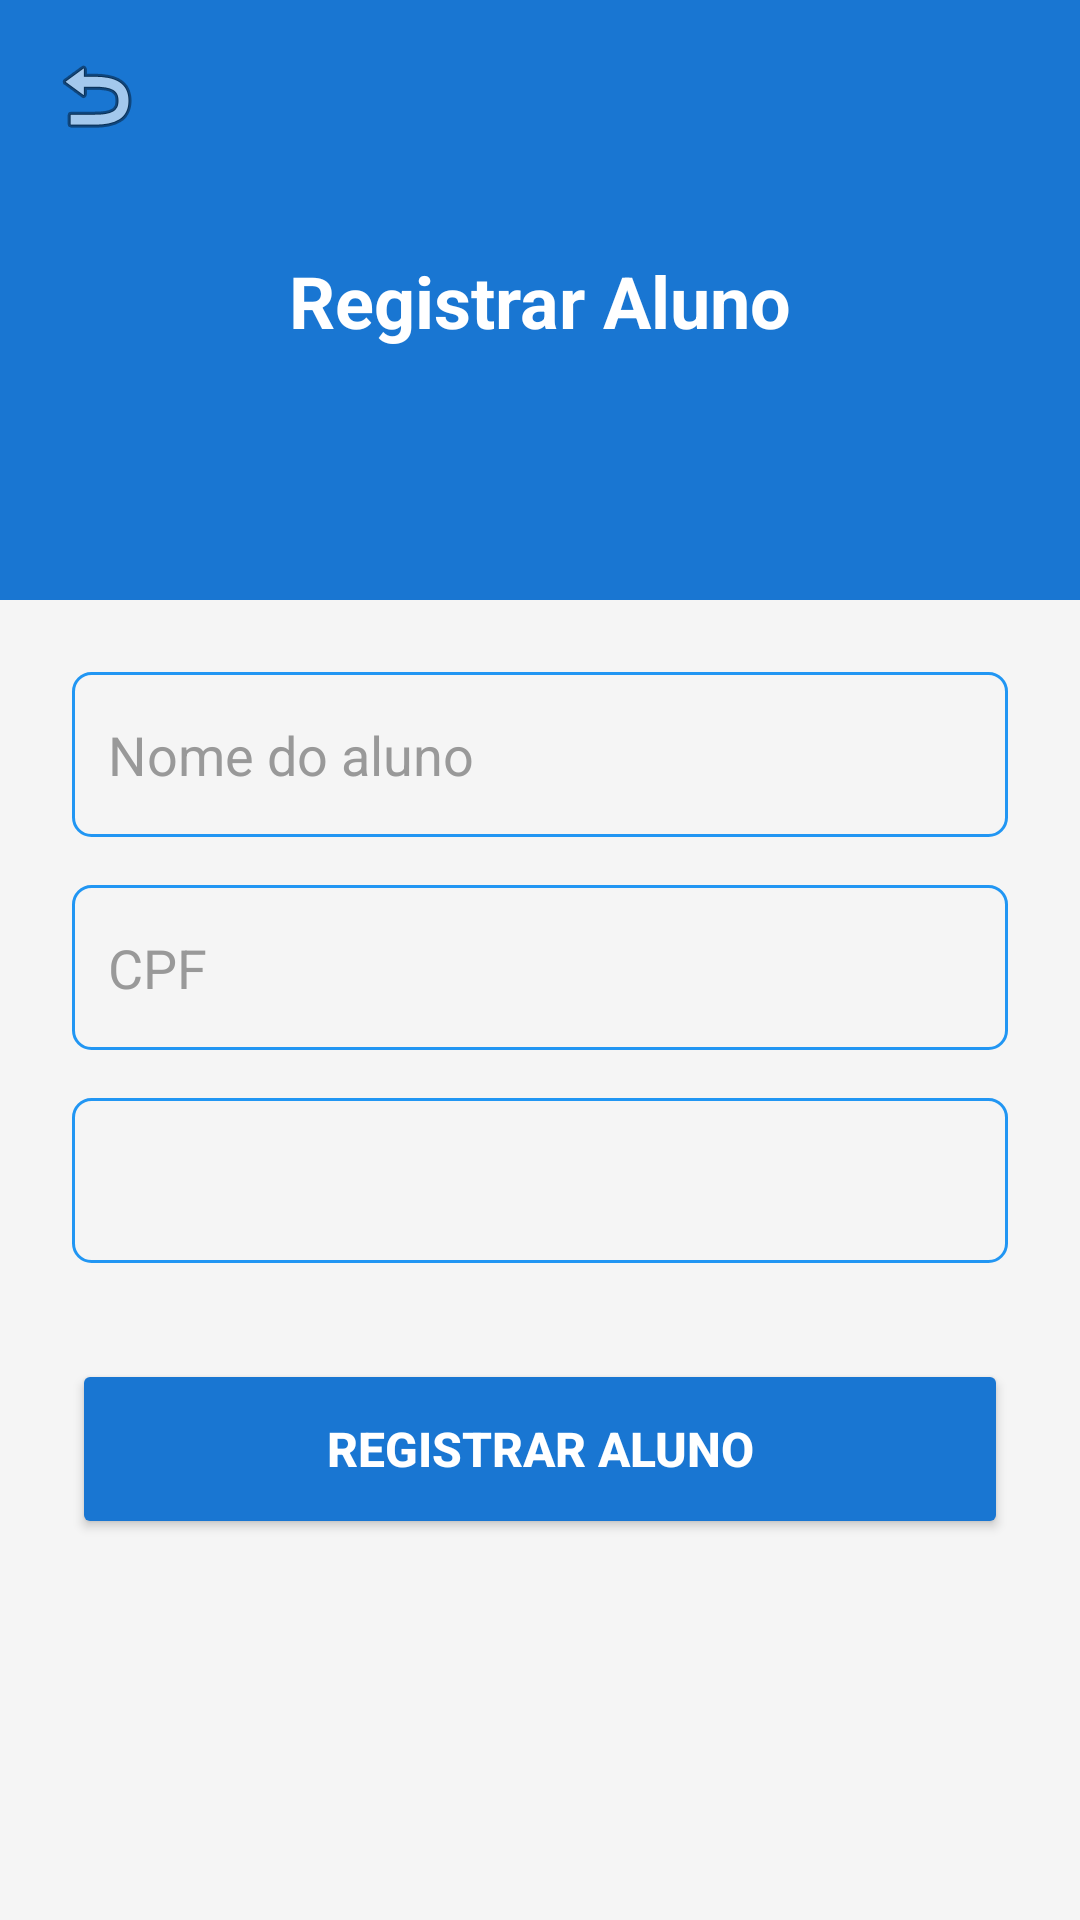

Named icons in this screenshot (1080px×1920px) and their bounding boxes, (x1, y1, x2, y2):
Voltar: (63, 65, 132, 128)
